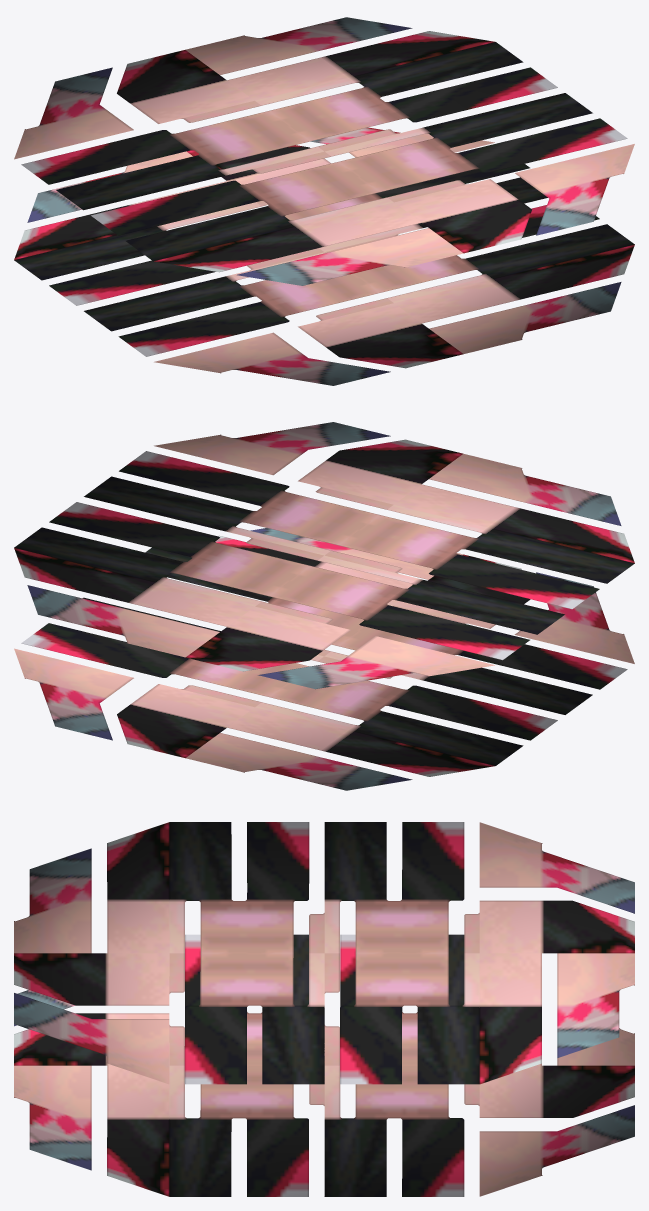
The picture shows the model from 3 angles, top to bottom: view 1: azimuth 30°, elevation 25°; view 2: azimuth 150°, elevation 25°; view 3: azimuth 270°, elevation 25°; orthographic projection. The views are drawn at different scales.
Visible parts, largest first — view 1: T1L4M007_23; view 2: T1L4M007_23; view 3: T1L4M007_23.
Part boxes in pixels (x1=…): T1L4M007_23: x1=14, y1=17, x2=634, y2=385; T1L4M007_23: x1=14, y1=422, x2=634, y2=790; T1L4M007_23: x1=14, y1=822, x2=634, y2=1196.
Bounding box in the file's own units: 2 × 0.3994 × 2.
